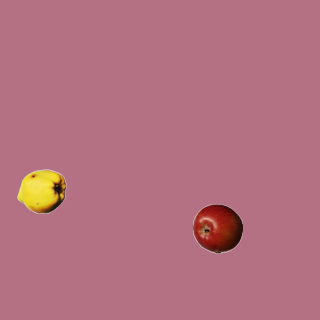Apple Braeburn: (192, 203, 242, 253)
Quince: (16, 166, 66, 216)
